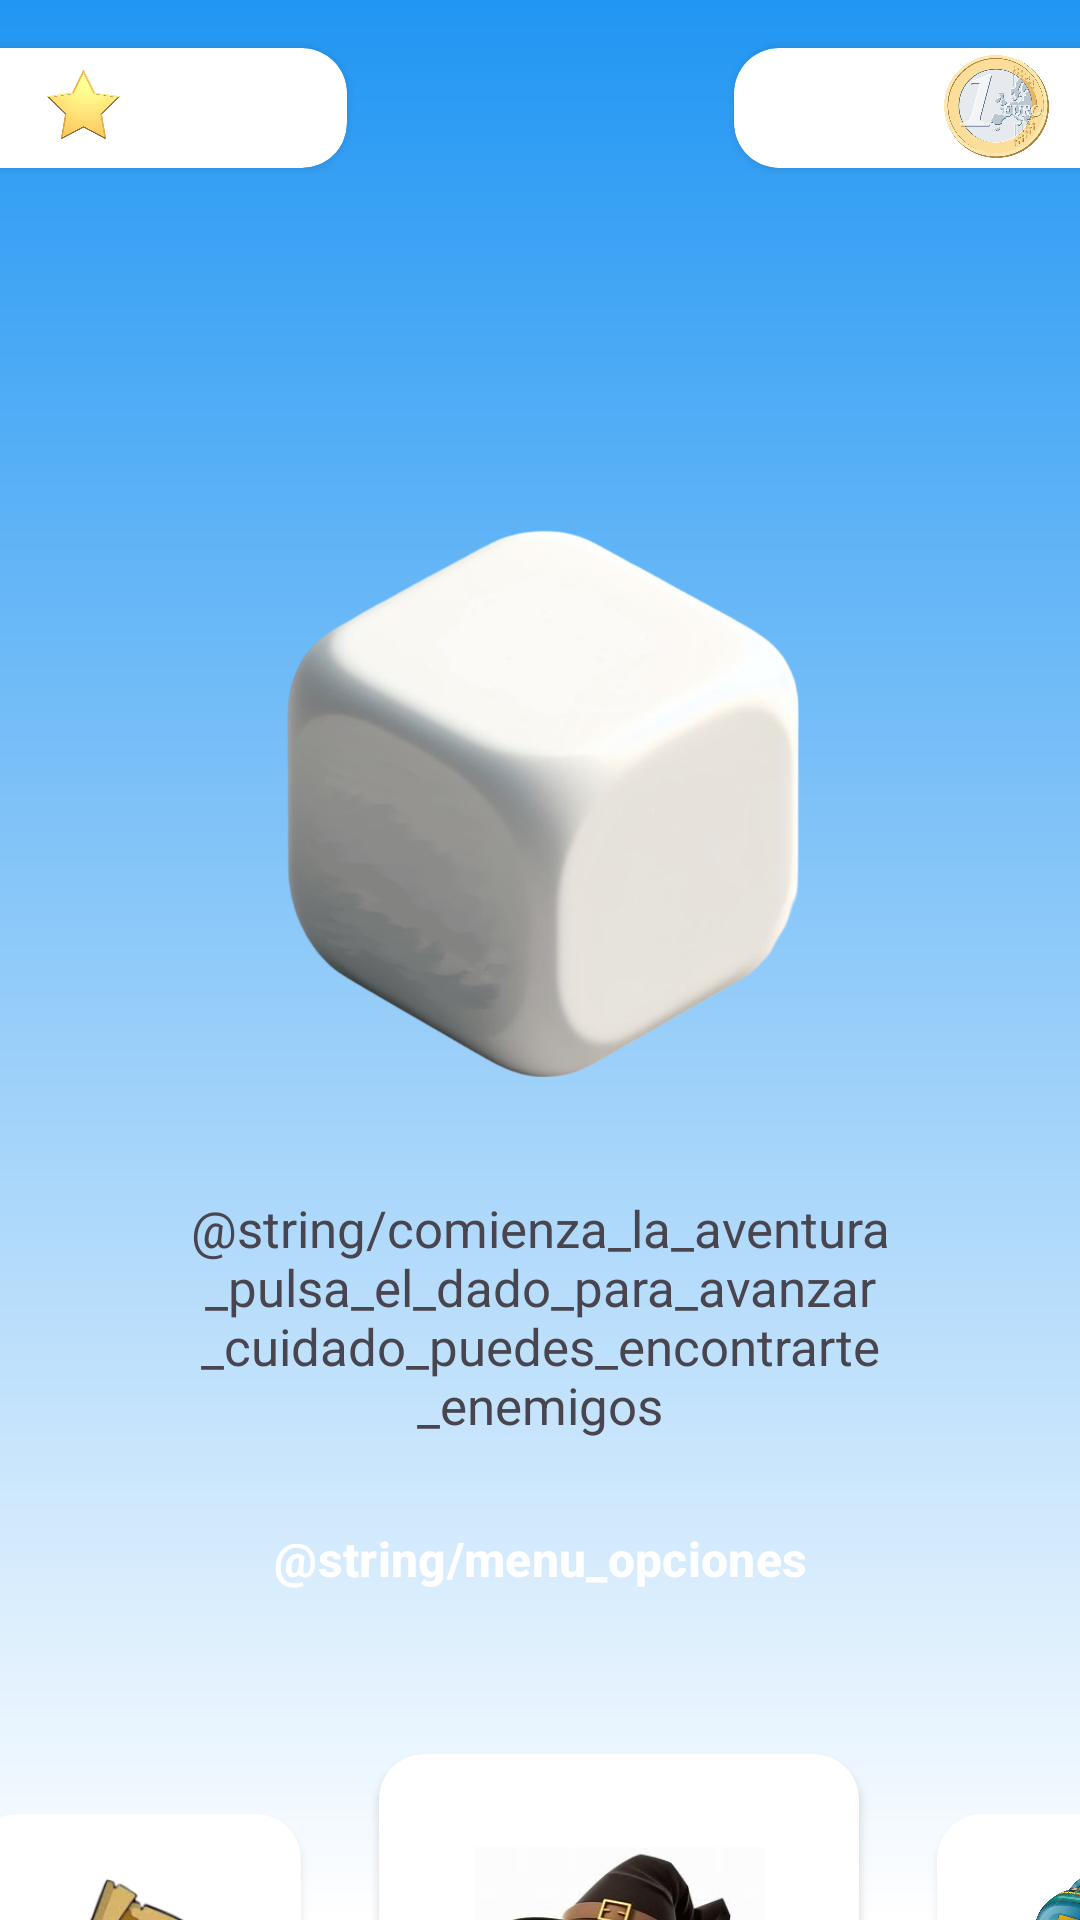

Screen size 1080x1920. Icon name, then its center in pixels as (x,y):
articulo moneda: (996,106)
